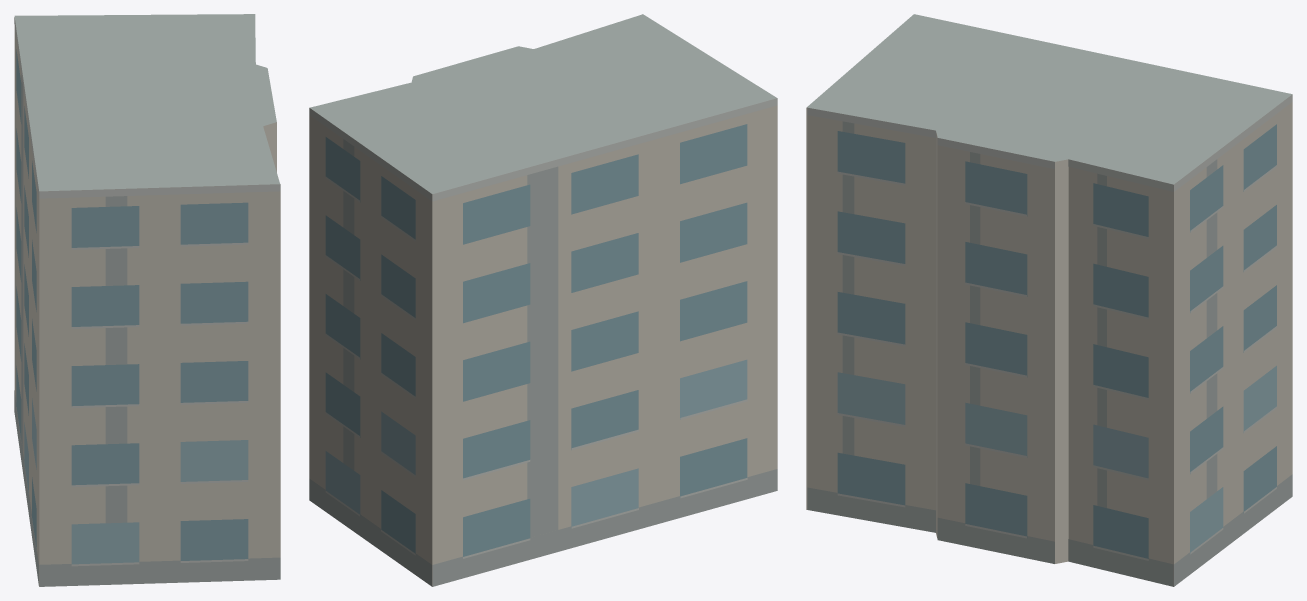
Rendered from survey-upis-33017680.glb.
3 renders of one model, left to right at view 1: azimuth 30°, elevation 25°; view 2: azimuth 150°, elevation 25°; view 3: azimuth 270°, elevation 25°, orthographic. The views are drawn at different scales.
Visible parts, largest first — view 1: survey-upis-33017680.tmp; view 2: survey-upis-33017680.tmp; view 3: survey-upis-33017680.tmp.
Part boxes in pixels (box(x1,y1,x2,y2)): survey-upis-33017680.tmp: box(14, 14, 280, 586); survey-upis-33017680.tmp: box(309, 14, 777, 586); survey-upis-33017680.tmp: box(806, 14, 1292, 586).
Bounding box in the file's own units: 12.02 × 13.2 × 14.47.
